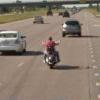Motorcycle: (38, 34, 64, 75)
